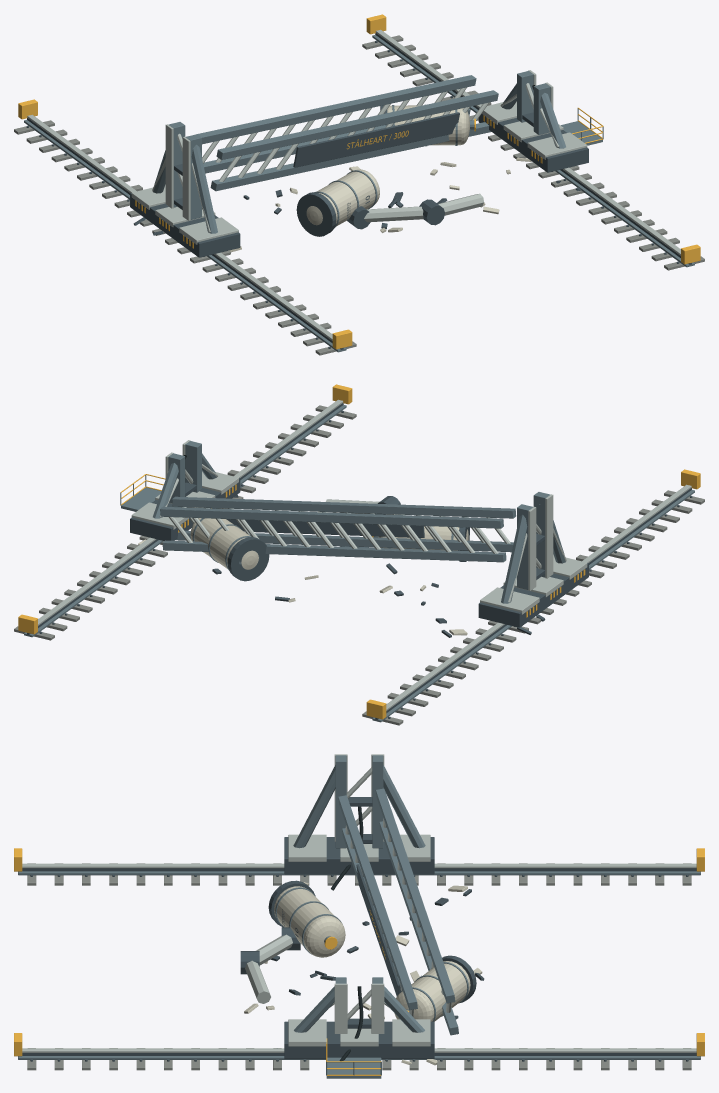
File: terraformer_3000_d3.glb
The picture shows the model from 3 angles, top to bottom: view 1: azimuth 30°, elevation 25°; view 2: azimuth 150°, elevation 25°; view 3: azimuth 270°, elevation 25°; orthographic projection. The views are drawn at different scales.
Visible parts, largest first — view 1: Detached nameplate, Fallen bridge chord.001, Fallen bridge chord.003, Fallen bridge chord, Material pressure vessel.005, Rail bogie chassis.006, Rail bogie chassis.007, Rail running head.006, Rail running head.007, Rail flange.006, Rail flange.007, Silo pedestal.006 (+16 smaller); view 2: Fallen bridge chord.001, Fallen bridge chord.003, Fallen bridge chord.002, Fallen bridge chord, Rail bogie chassis.006, Rail running head.006, Rail running head.007, Detached nameplate, Material pressure vessel.006, Rail flange.007, Rail flange.006, Rail bogie chassis.007 (+12 smaller); view 3: Rail running head.006, Rail flange.006, Rail bogie chassis.007, Rail running head.007, Fallen bridge chord.001, Fallen bridge chord.003, Rail bogie chassis.006, Rail flange.007, Rail web.006, Material pressure vessel.005, Rail web.007, Material pressure vessel.006 (+20 smaller).
Part boxes in pixels (left/top/right/bottom): Detached nameplate: left=293, top=112, right=459, bottom=167; Fallen bridge chord.001: left=216, top=90, right=498, bottom=159; Fallen bridge chord.003: left=197, top=75, right=476, bottom=144; Fallen bridge chord: left=210, top=122, right=491, bottom=191; Material pressure vessel.005: left=317, top=169, right=379, bottom=225; Rail bogie chassis.006: left=130, top=193, right=240, bottom=257; Rail bogie chassis.007: left=478, top=108, right=588, bottom=172; Rail running head.006: left=27, top=114, right=332, bottom=340; Rail running head.007: left=375, top=29, right=680, bottom=255; Rail flange.006: left=24, top=120, right=346, bottom=352; Rail flange.007: left=372, top=35, right=694, bottom=267; Silo pedestal.006: left=296, top=192, right=336, bottom=236; Fallen bridge chord.001: left=172, top=496, right=516, bottom=518; Fallen bridge chord.003: left=160, top=506, right=503, bottom=528; Fallen bridge chord.002: left=162, top=540, right=506, bottom=562; Fallen bridge chord: left=175, top=530, right=513, bottom=552; Rail bogie chassis.006: left=478, top=563, right=588, bottom=627; Rail running head.006: left=386, top=484, right=691, bottom=710; Rail running head.007: left=38, top=399, right=343, bottom=625; Detached nameplate: left=226, top=509, right=424, bottom=537; Material pressure vessel.006: left=191, top=518, right=250, bottom=568; Rail flange.007: left=24, top=405, right=346, bottom=637; Rail flange.006: left=372, top=490, right=694, bottom=722; Rail bogie chassis.007: left=130, top=478, right=240, bottom=540; Rail running head.006: left=22, top=863, right=696, bottom=868; Rail flange.006: left=18, top=871, right=700, bottom=875; Rail bogie chassis.007: left=284, top=1021, right=434, bottom=1058; Rail running head.007: left=22, top=1048, right=696, bottom=1052; Fallen bridge chord.001: left=338, top=795, right=417, bottom=1010; Fallen bridge chord.003: left=375, top=788, right=455, bottom=1003; Rail bogie chassis.006: left=284, top=837, right=434, bottom=874; Rail flange.007: left=18, top=1056, right=700, bottom=1059; Rail web.006: left=22, top=868, right=696, bottom=871; Material pressure vessel.005: left=274, top=886, right=341, bottom=955; Rail web.007: left=22, top=1053, right=696, bottom=1055; Material pressure vessel.006: left=397, top=961, right=470, bottom=1021.
Size of the model in its own units: 39.28 by 9.55 by 50.6.
